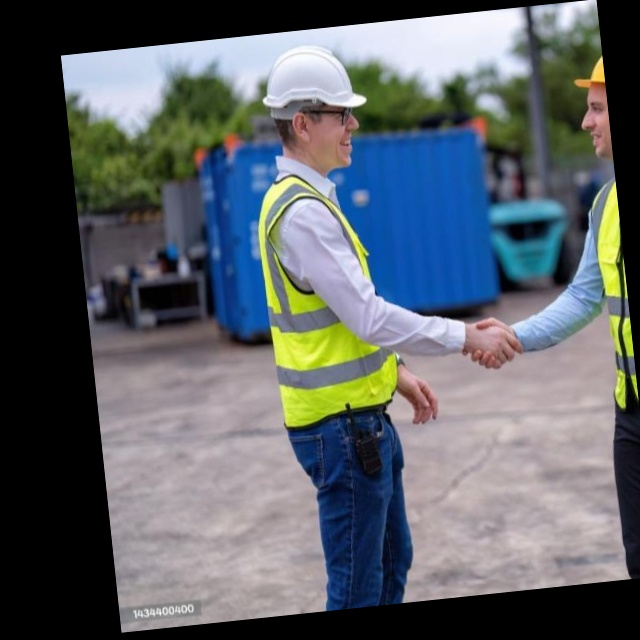Con_Casco: (257, 40, 374, 178)
Con_Chaleco: (247, 168, 404, 417)
